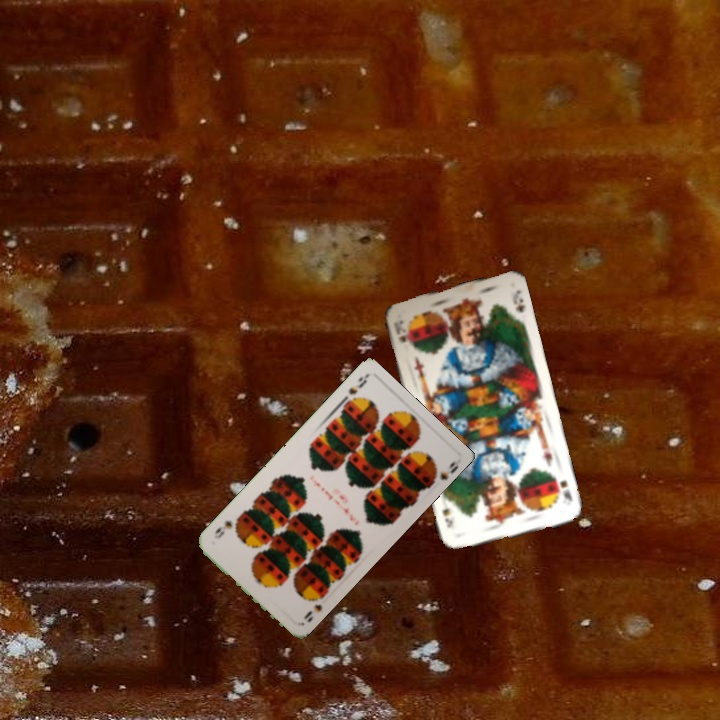S9: (338, 372, 370, 406), (300, 592, 327, 622)
SK: (550, 471, 575, 504), (393, 316, 413, 349)
